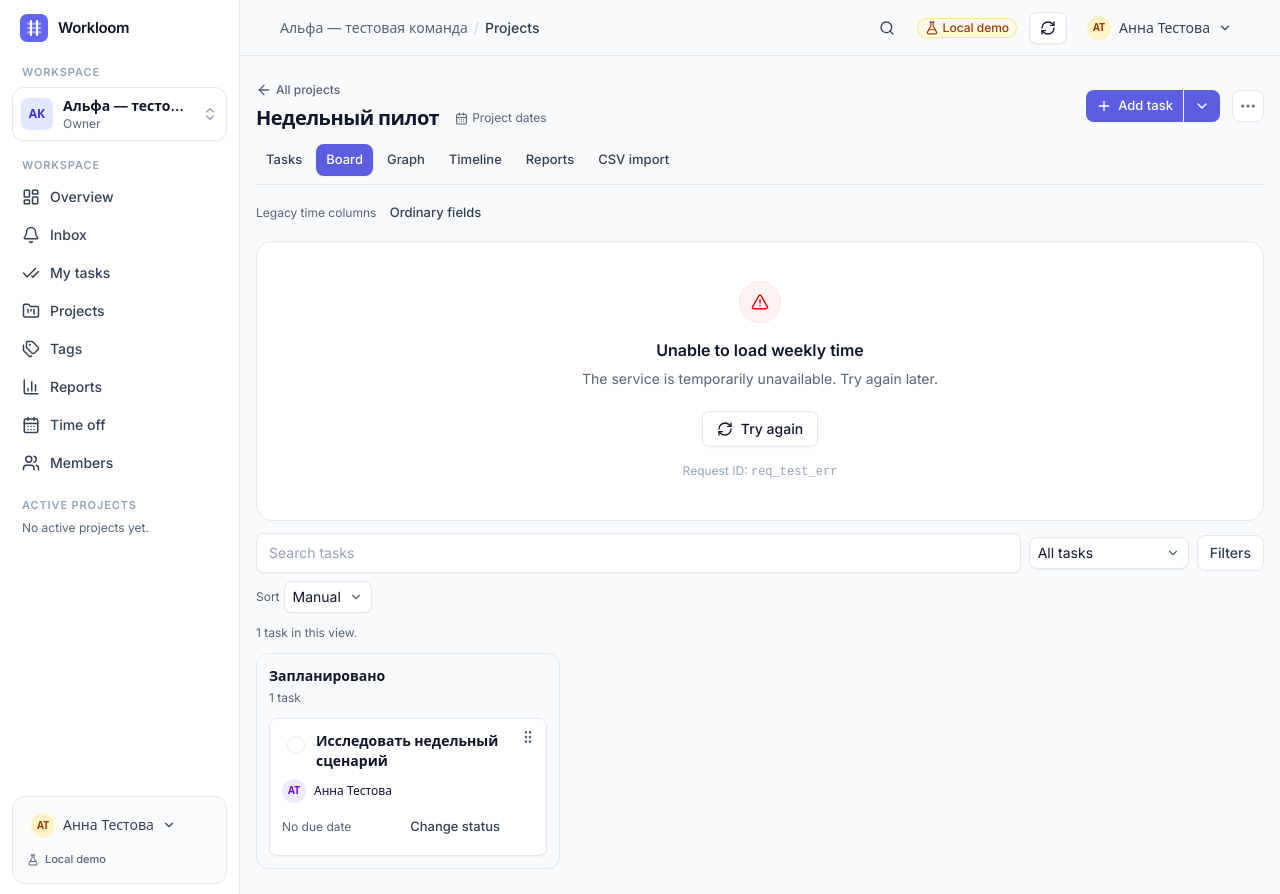
it: Board density with retained time context › keeps retained time query errors and retry available on Board while the pickers are absent
This screenshot has width=1280, height=894.
Expected: the element named "Task status lanes" is shown, [256, 653, 560, 869]
Click the button "Try again": (760, 429) [702, 411, 818, 447]
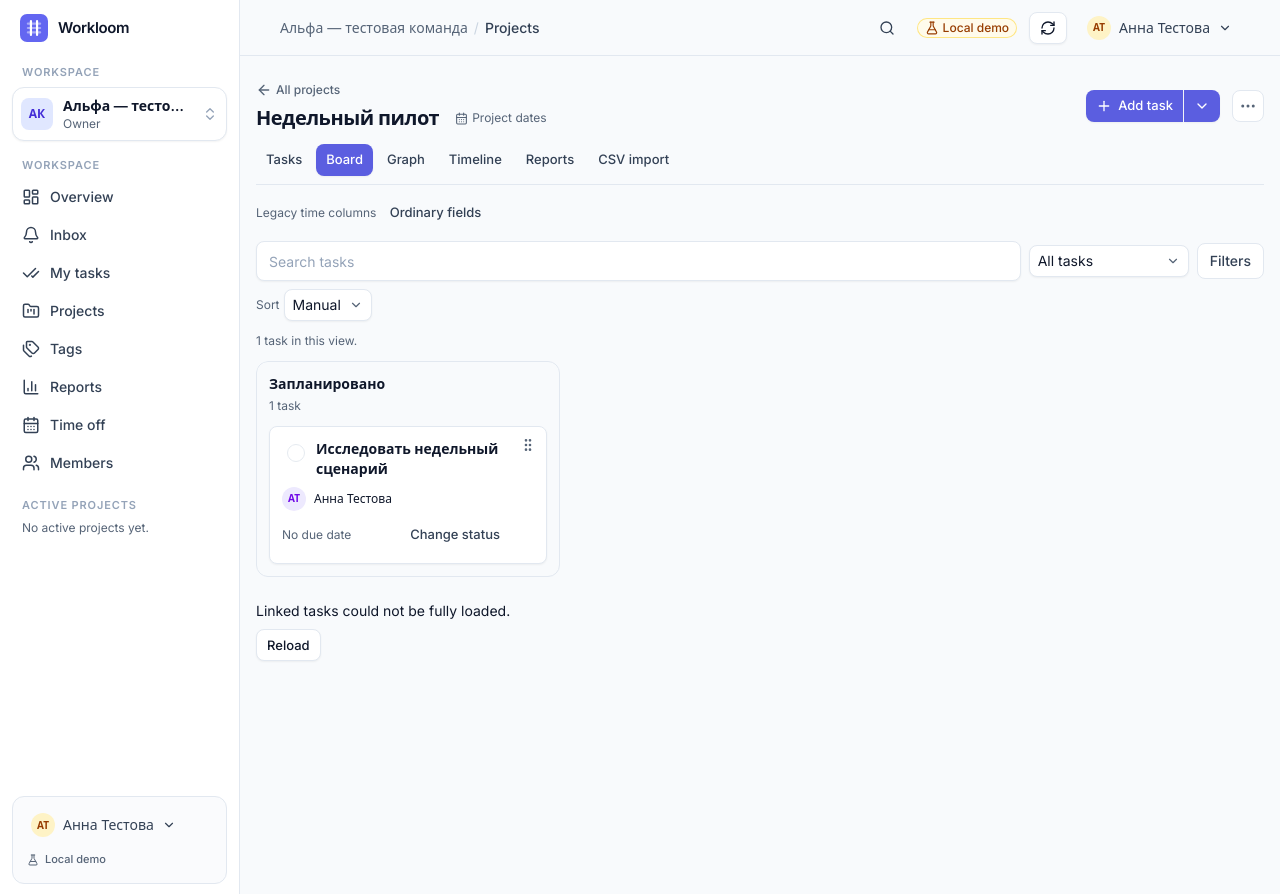
Expected: the heading "Unable to load weekly time" is gone
